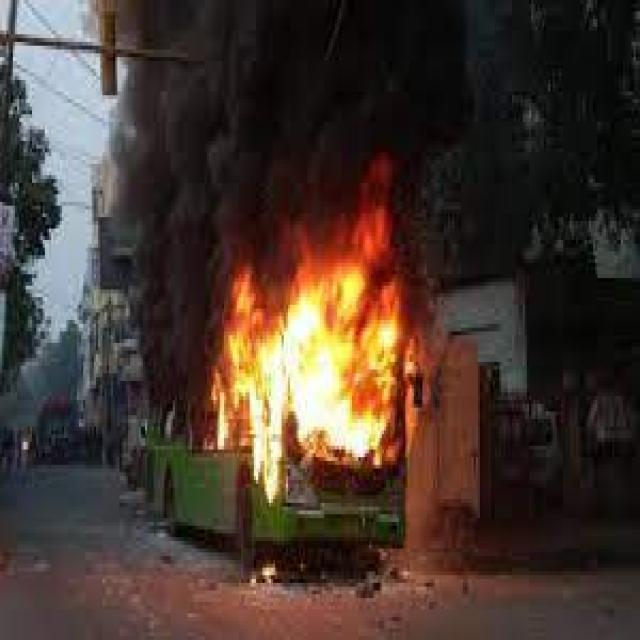Fire: (214, 162, 438, 500)
Smoke: (113, 0, 640, 206), (136, 211, 212, 433)
